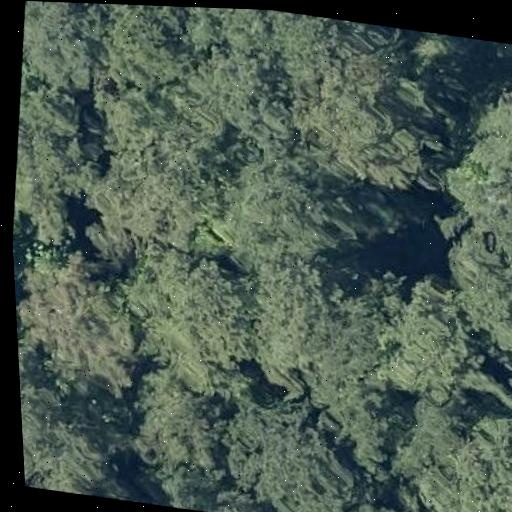tree-top: (422, 59, 512, 393), (103, 228, 268, 403), (258, 10, 417, 175), (71, 3, 273, 122), (85, 94, 226, 244), (213, 146, 377, 272), (13, 247, 143, 397), (304, 281, 411, 441), (18, 352, 132, 499), (381, 385, 512, 512), (221, 399, 365, 512), (6, 80, 103, 243), (369, 271, 478, 400), (127, 374, 237, 479), (254, 255, 328, 380), (17, 1, 111, 91)
